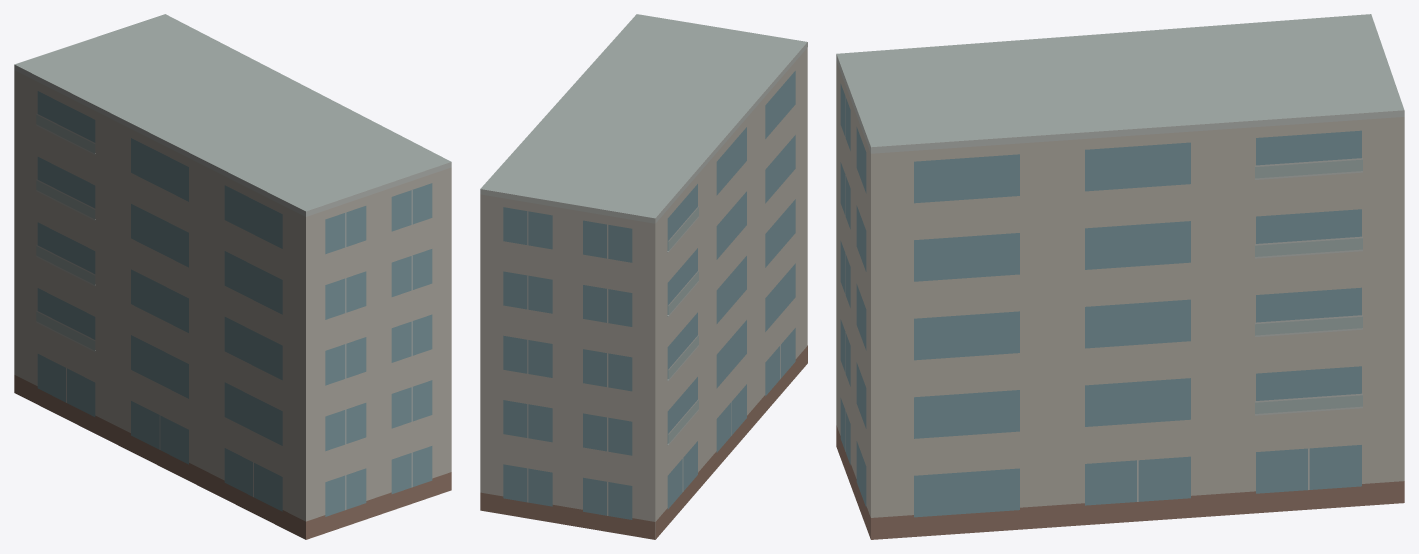
The model's file is survey-upis-33040957.glb.
The picture shows the model from 3 angles, left to right: view 1: azimuth 30°, elevation 25°; view 2: azimuth 150°, elevation 25°; view 3: azimuth 270°, elevation 25°; orthographic projection. The views are drawn at different scales.
Visible parts, largest first — view 1: survey-upis-33040957.tmp; view 2: survey-upis-33040957.tmp; view 3: survey-upis-33040957.tmp.
Boxes of the visible parts, bbox=[...] form: survey-upis-33040957.tmp: bbox=[14, 14, 451, 539]; survey-upis-33040957.tmp: bbox=[480, 14, 807, 539]; survey-upis-33040957.tmp: bbox=[836, 14, 1404, 539].
Size of the model in its own units: 10.63 by 14.6 by 19.16.
